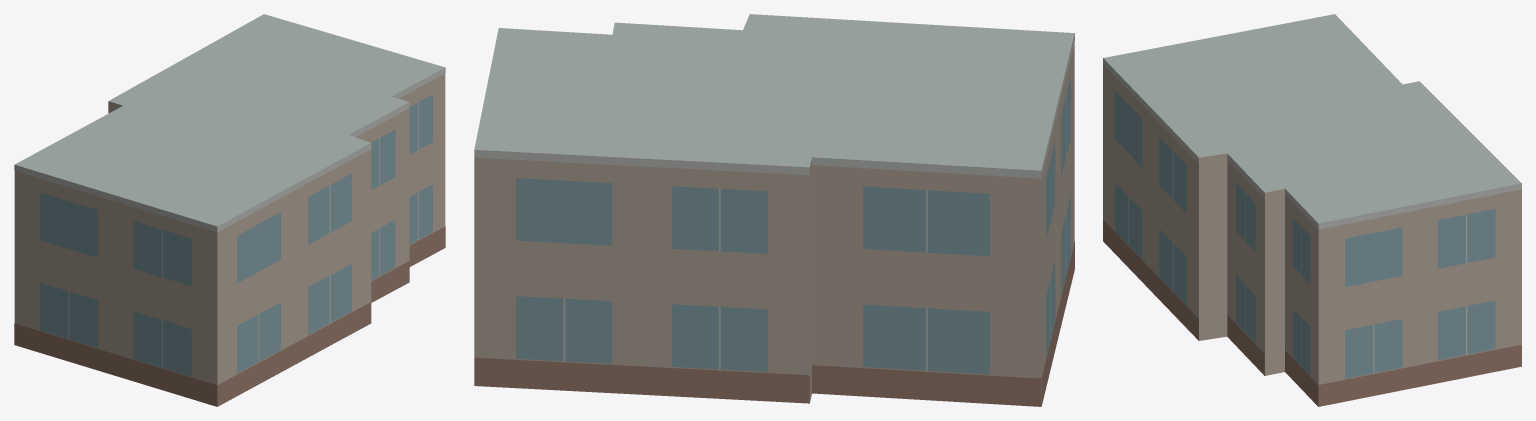
The model's file is survey-upis-32500504.glb.
3 renders of one model, left to right at view 1: azimuth 30°, elevation 25°; view 2: azimuth 150°, elevation 25°; view 3: azimuth 270°, elevation 25°, orthographic. The views are drawn at different scales.
Parts seen in each view (by area): view 1: survey-upis-32500504.tmp; view 2: survey-upis-32500504.tmp; view 3: survey-upis-32500504.tmp.
Boxes of the visible parts, x1,y1,x2,y2 form: survey-upis-32500504.tmp: (14,14,445,406); survey-upis-32500504.tmp: (474,14,1074,406); survey-upis-32500504.tmp: (1103,14,1521,406).
Bounding box in the file's own units: 17.92 × 7.3 × 15.13.
